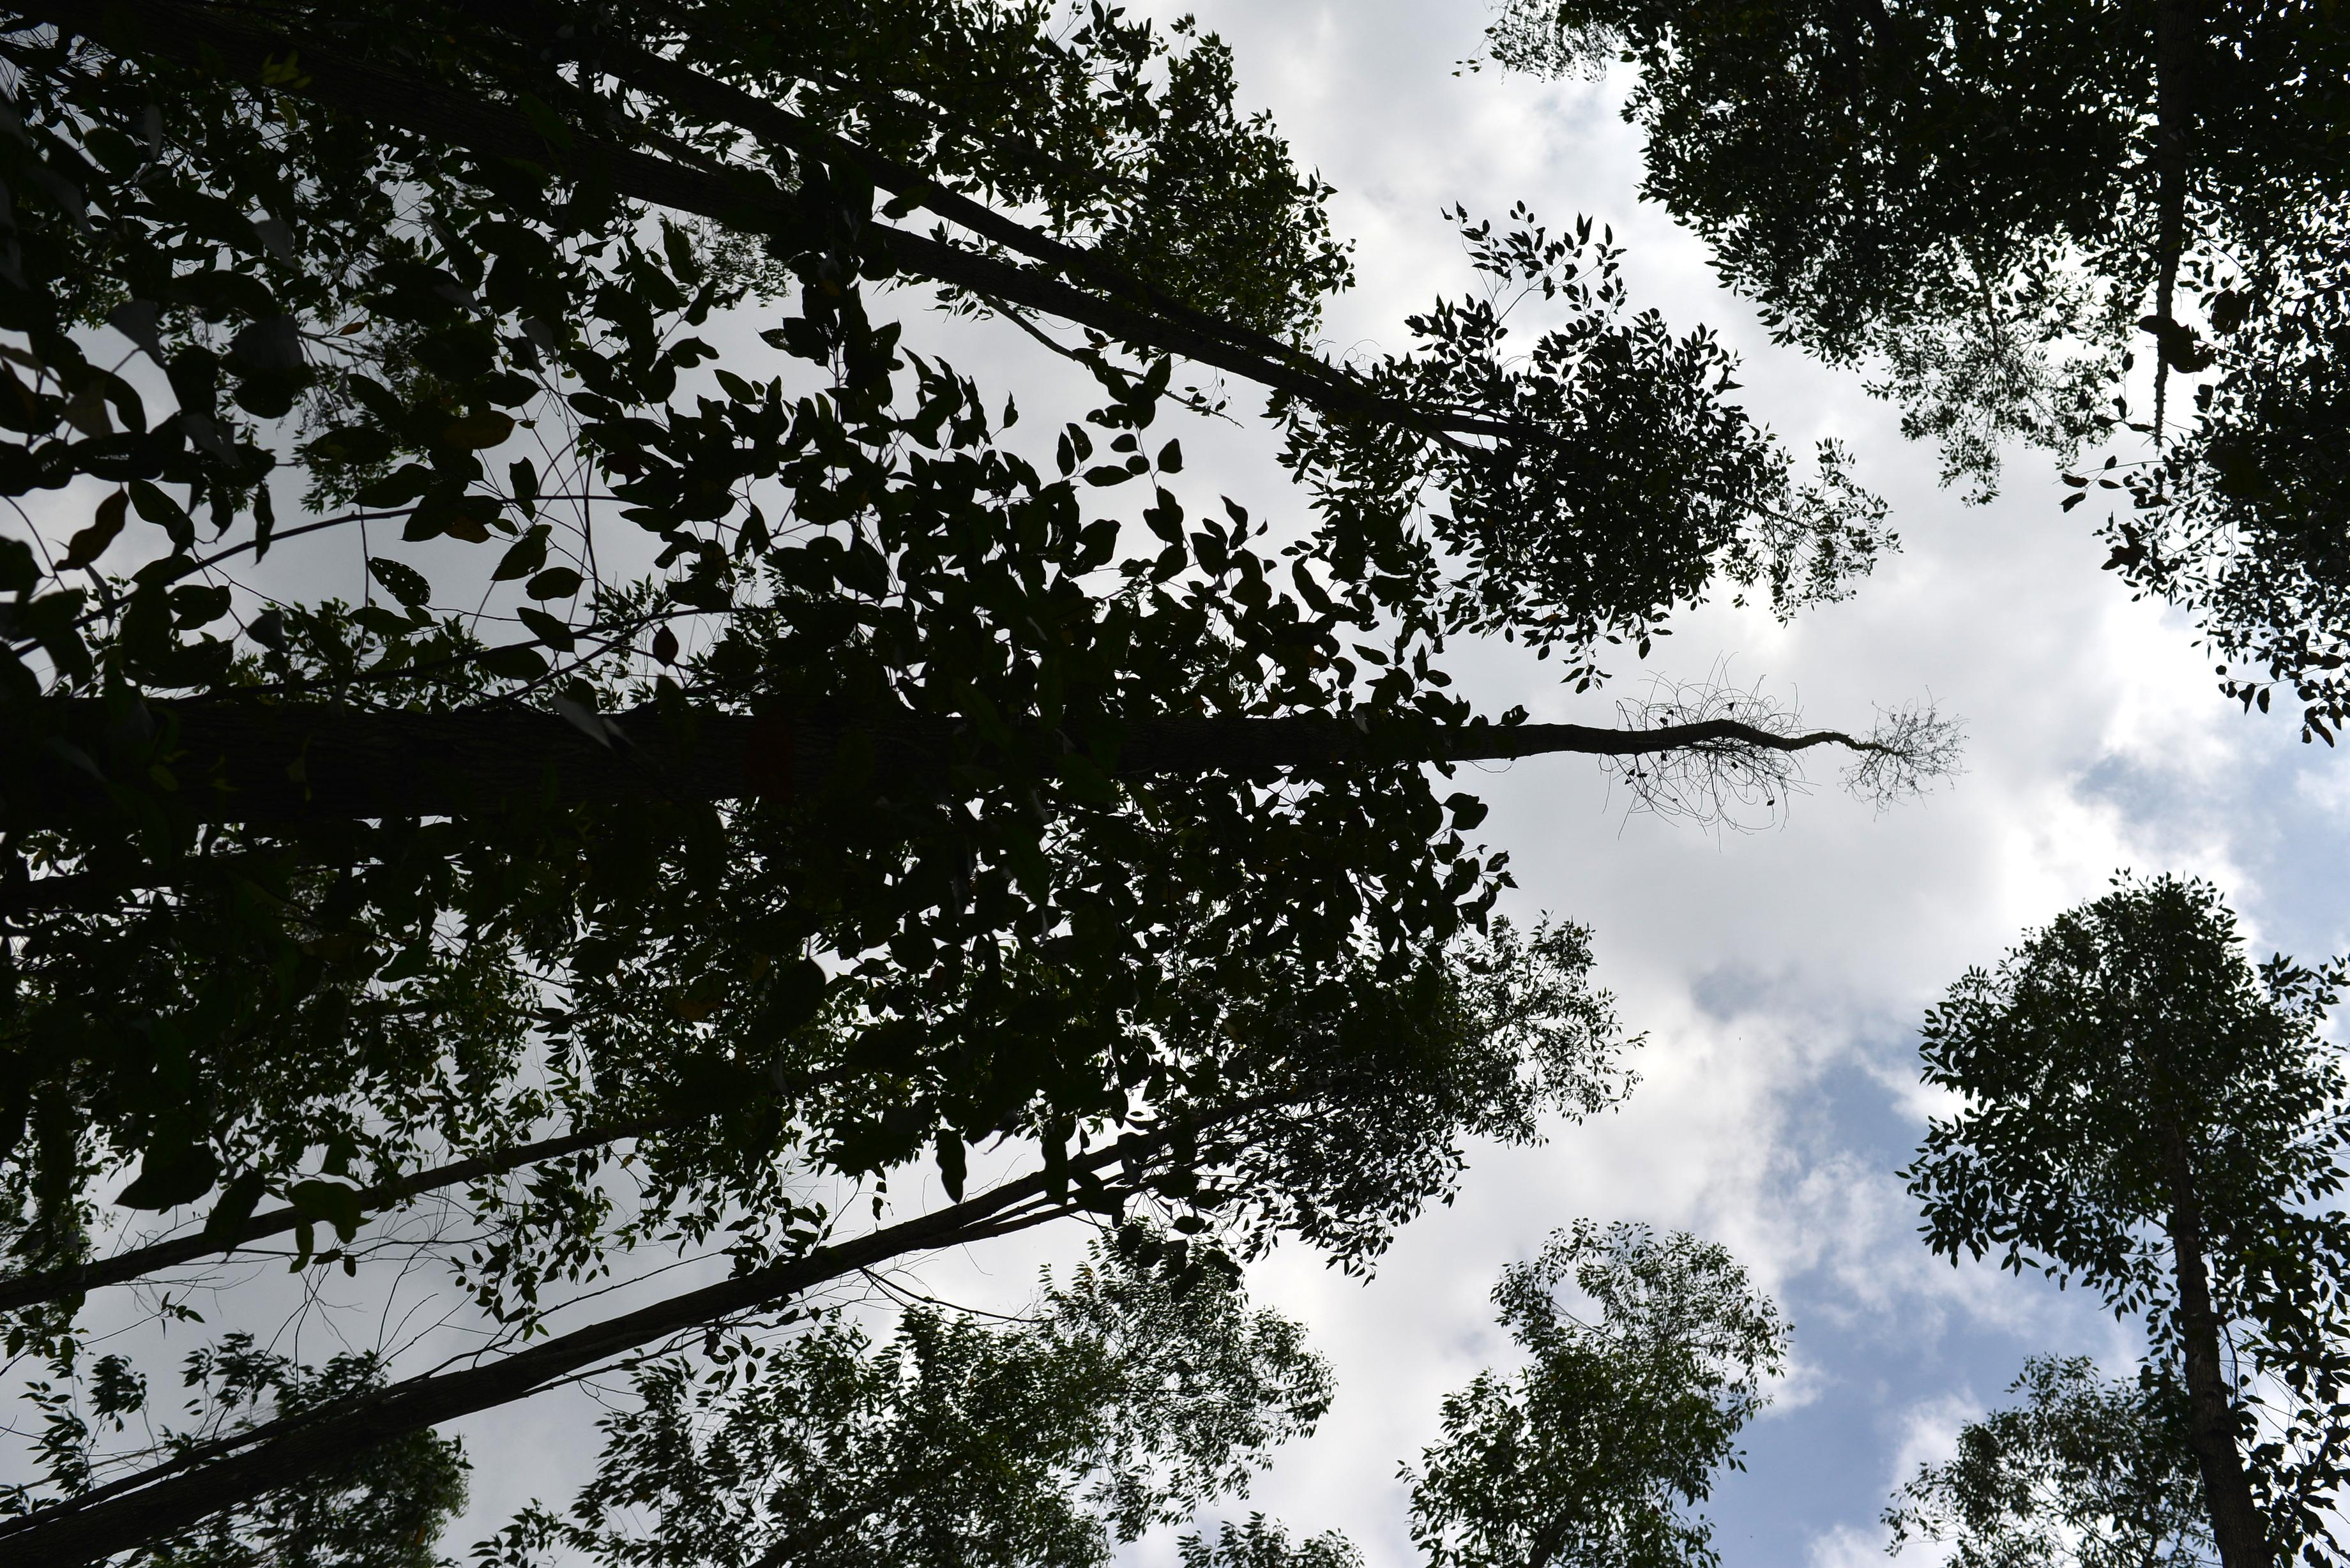Wither Tree Parts: (1601, 677, 1969, 836)
